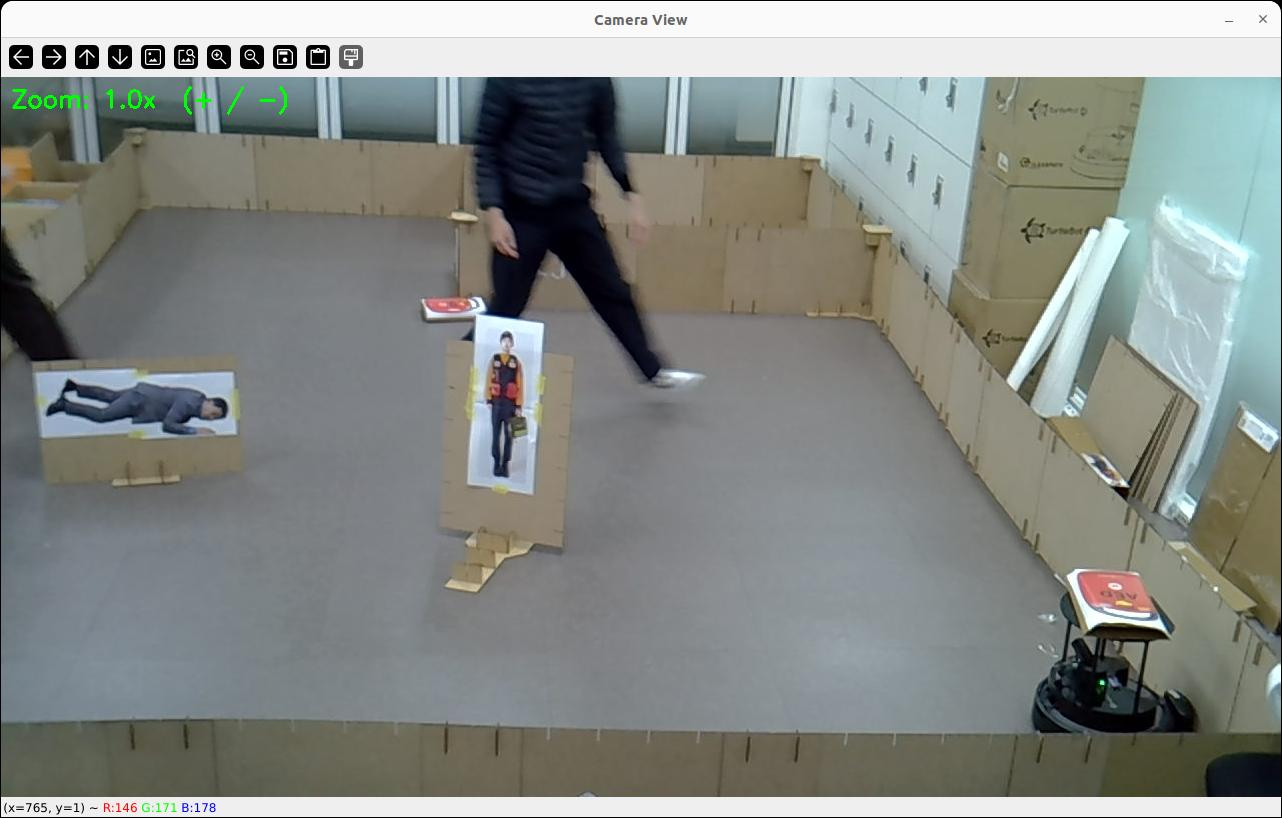Patient: (46, 379, 227, 435)
Responder: (486, 333, 523, 476)
